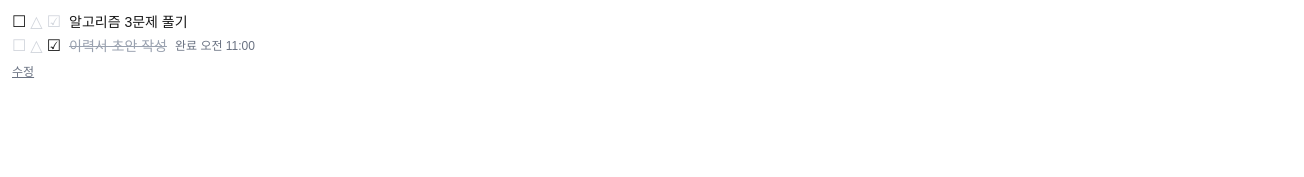
it: GoalsEditor › enters edit mode with text inputs when the edit button is clicked
Click the button "수정".
click(23, 72)  # box [12, 64, 34, 80]
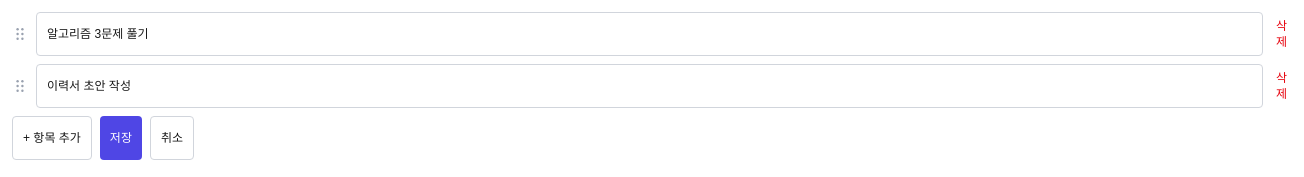
Expected: the 1st field showing "알고리즘 3문제 풀기" is shown, [36, 12, 1263, 56]
Expected: the 2nd field showing "이력서 초안 작성" is shown, [36, 64, 1263, 108]
Expected: the button "저장" is shown, [100, 116, 142, 160]
